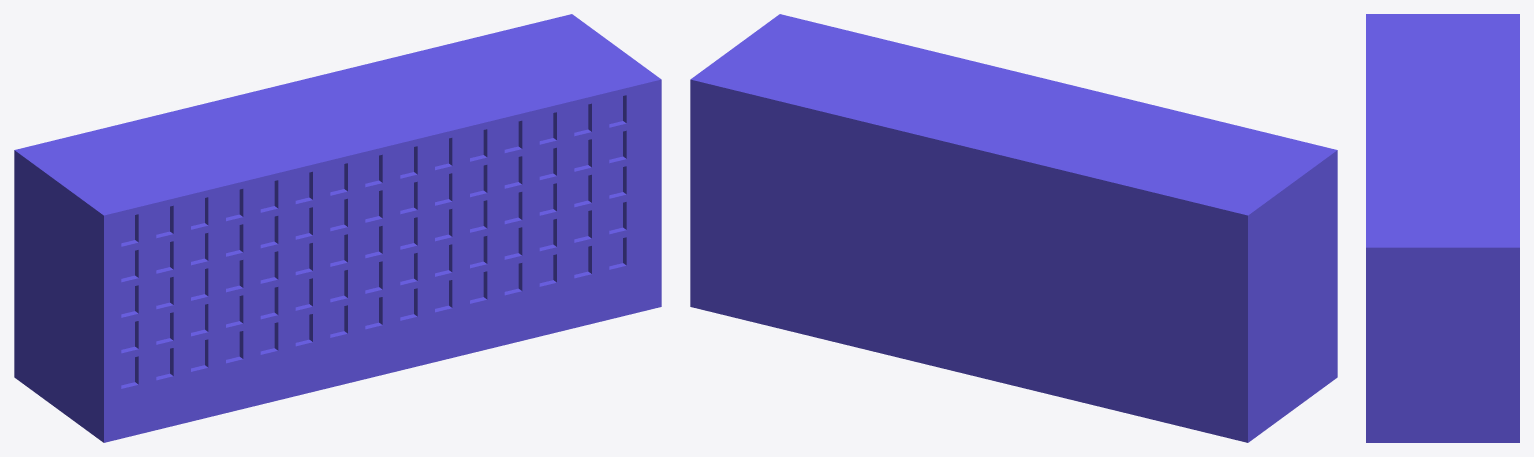
Rendered from budynek1.glb.
The picture shows the model from 3 angles, left to right: view 1: azimuth 30°, elevation 25°; view 2: azimuth 150°, elevation 25°; view 3: azimuth 270°, elevation 25°; orthographic projection. The views are drawn at different scales.
Parts seen in each view (by area): view 1: Cube.002; view 2: Cube.002; view 3: Cube.002.
Part boxes in pixels (x1,y1,x2,y2): Cube.002: (14, 14, 661, 442); Cube.002: (690, 14, 1337, 442); Cube.002: (1366, 14, 1519, 442).
Size of the model in its own units: 22.17 by 8.64 by 6.16.
